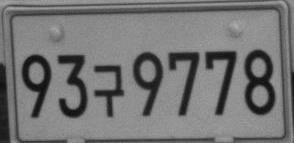3: (57, 54, 88, 118)
7: (203, 50, 237, 115), (167, 50, 200, 116)
8: (243, 47, 276, 115)
9: (131, 50, 164, 116), (21, 53, 51, 117)
구: (93, 64, 124, 117)
